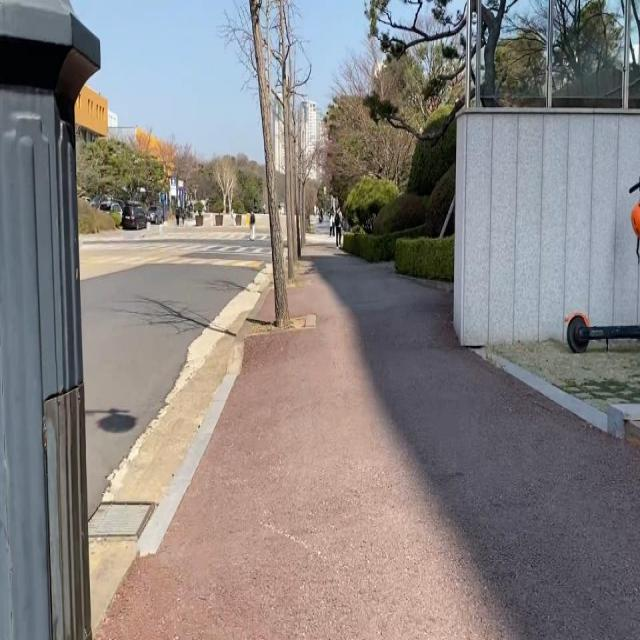sidewalk: (98, 228, 640, 639)
